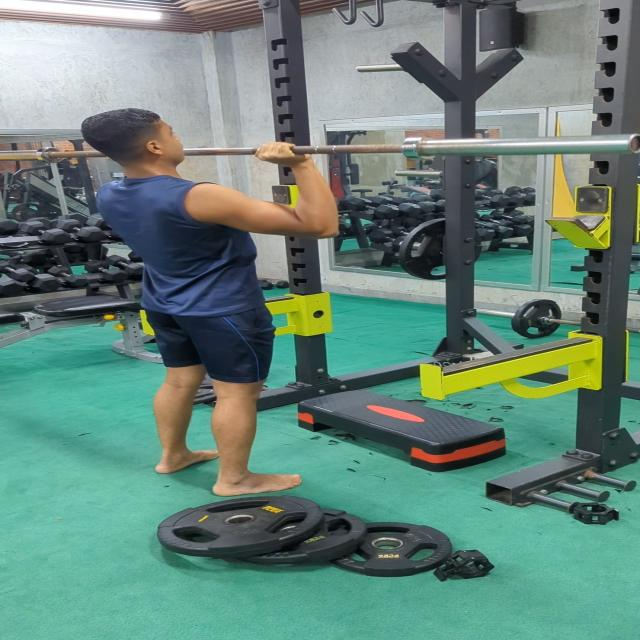Normal_OverheadPress: (65, 81, 376, 496)
